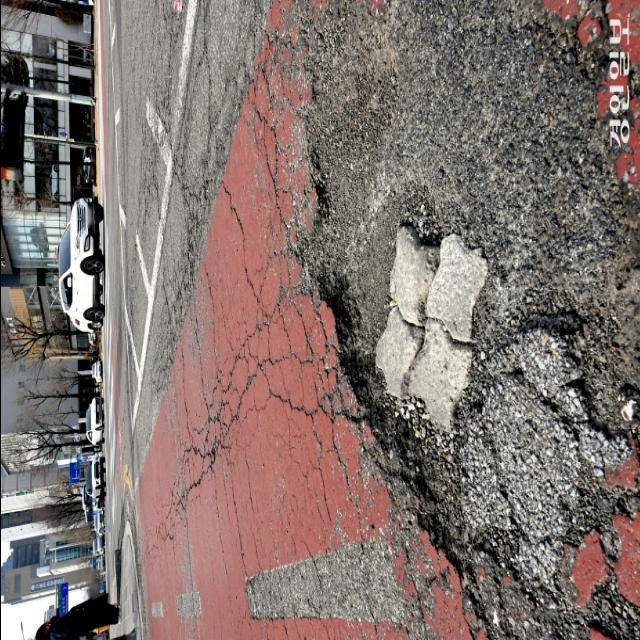pothole: (272, 1, 640, 618)
